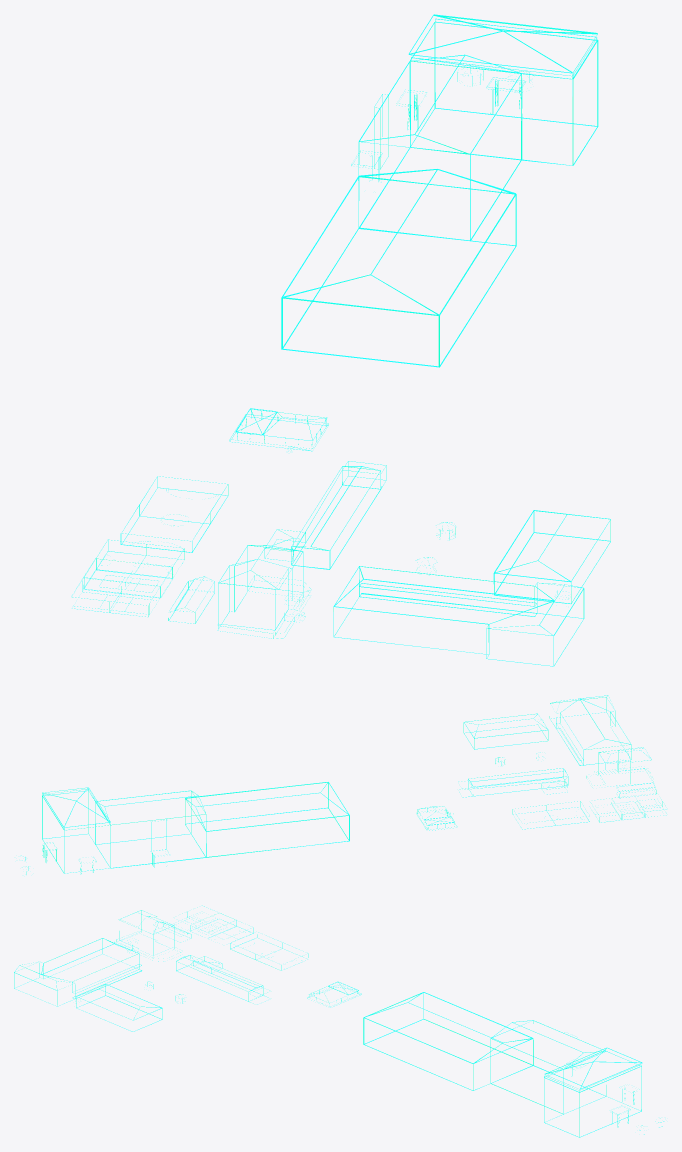
3 views of the same model, one above another, from view 1: azimuth 30°, elevation 25°; view 2: azimuth 150°, elevation 25°; view 3: azimuth 270°, elevation 25° (orthographic). The views are drawn at different scales.
Parts seen in each view (by area): view 1: SketchUp.025; view 2: SketchUp.025; view 3: SketchUp.025.
Part boxes in pixels (x1=…): SketchUp.025: x1=71, y1=14, x2=610, y2=666; SketchUp.025: x1=21, y1=695, x2=666, y2=874; SketchUp.025: x1=14, y1=905, x2=664, y2=1137.
Bounding box in the file's own units: 19.28 × 2.21 × 23.53.
